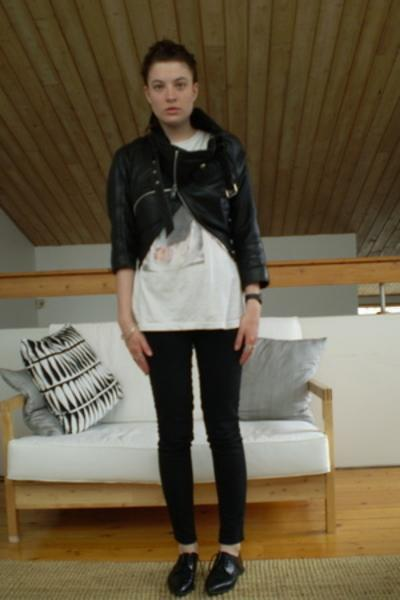jacket: (106, 108, 271, 299)
pants: (142, 328, 245, 544)
shirt: (133, 132, 239, 330)
shoe: (166, 538, 243, 597)
